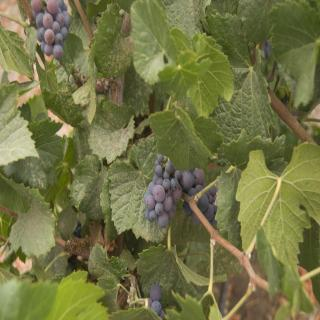Grape: (144, 152, 218, 229), (31, 0, 71, 60), (150, 284, 162, 302), (152, 301, 162, 313), (146, 296, 152, 306), (158, 313, 165, 320)
